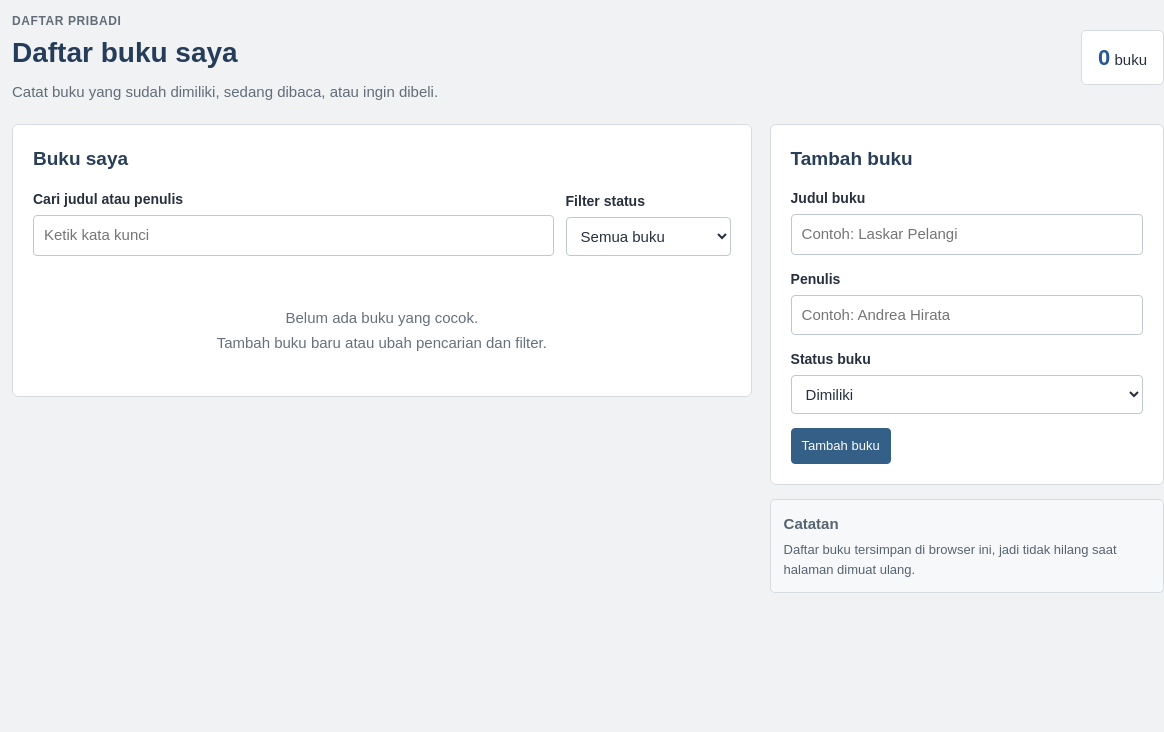
Test: HomePage › mengedit data buku
Type "Laskar Pelangi" into the field labelled "Judul buku" at (967, 234), box [791,214,1143,254]
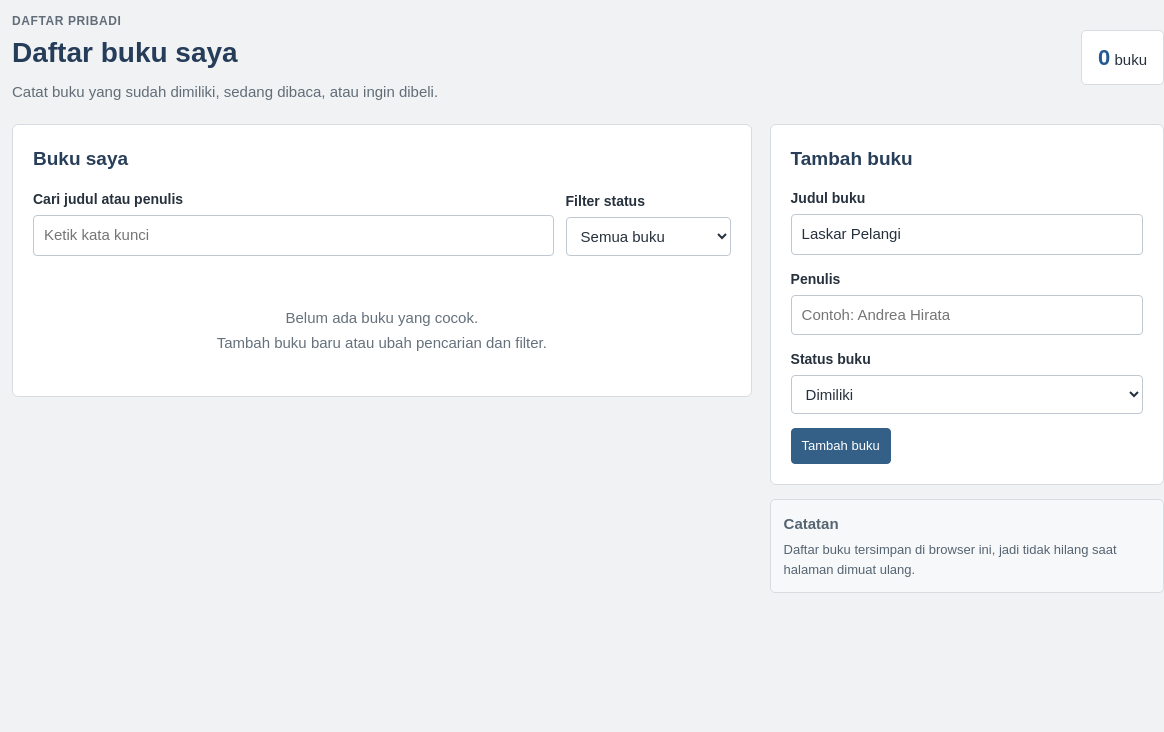
Type "Andrea Hirata" into the field labelled "Penulis" at (967, 315), box [791,294,1143,335]
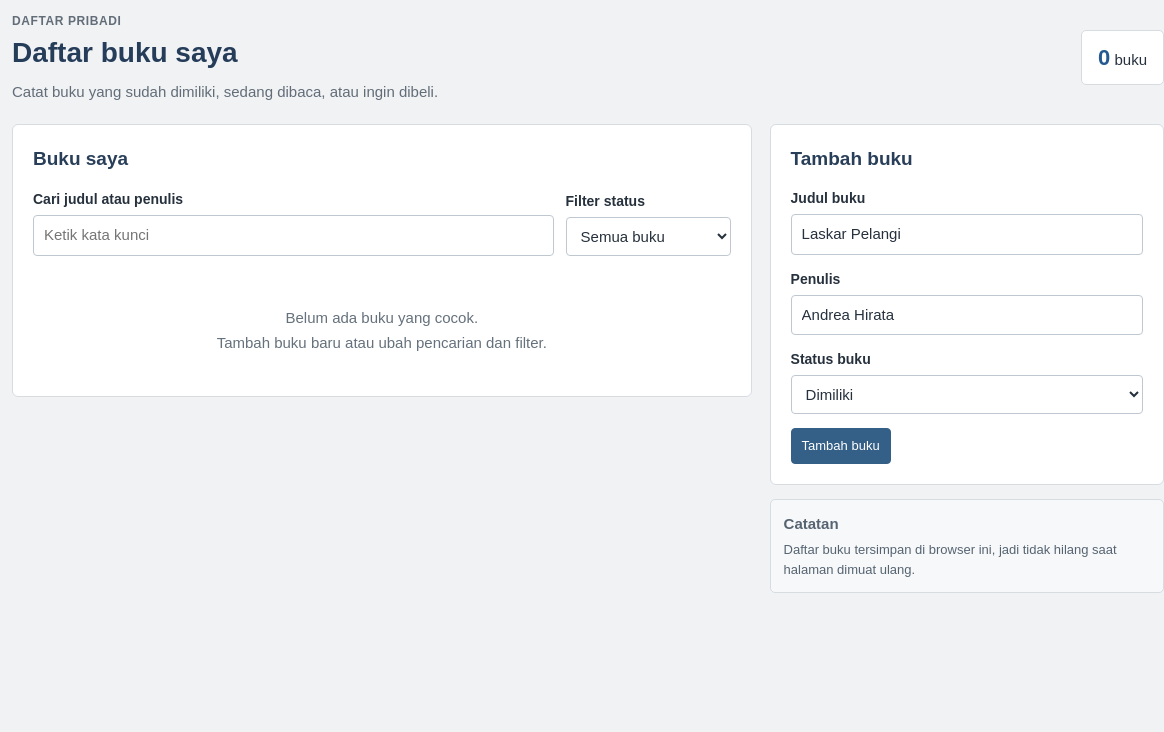
Select "Dimiliki" in the dropdown labelled "Status buku" at (967, 394), box [791,375,1143,414]
Click the button "Tambah buku" at (841, 446), box [791,428,891,464]
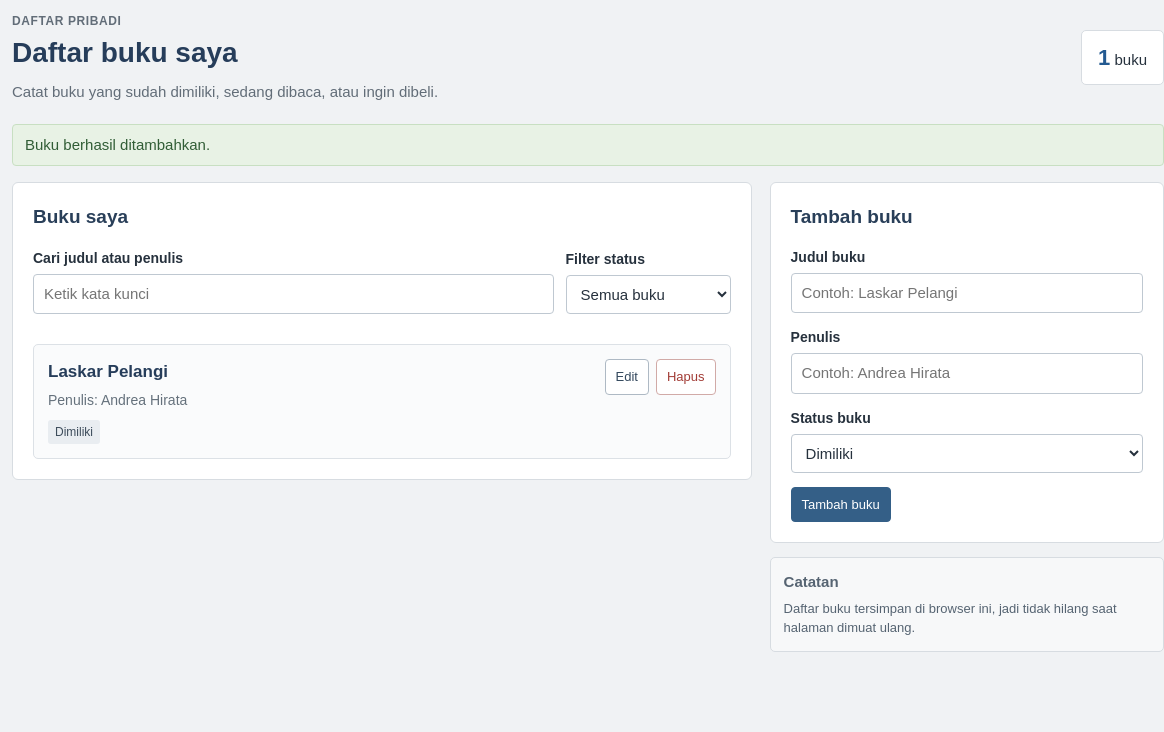
Click the button "Edit" at (627, 377), box [605,359,649,394]
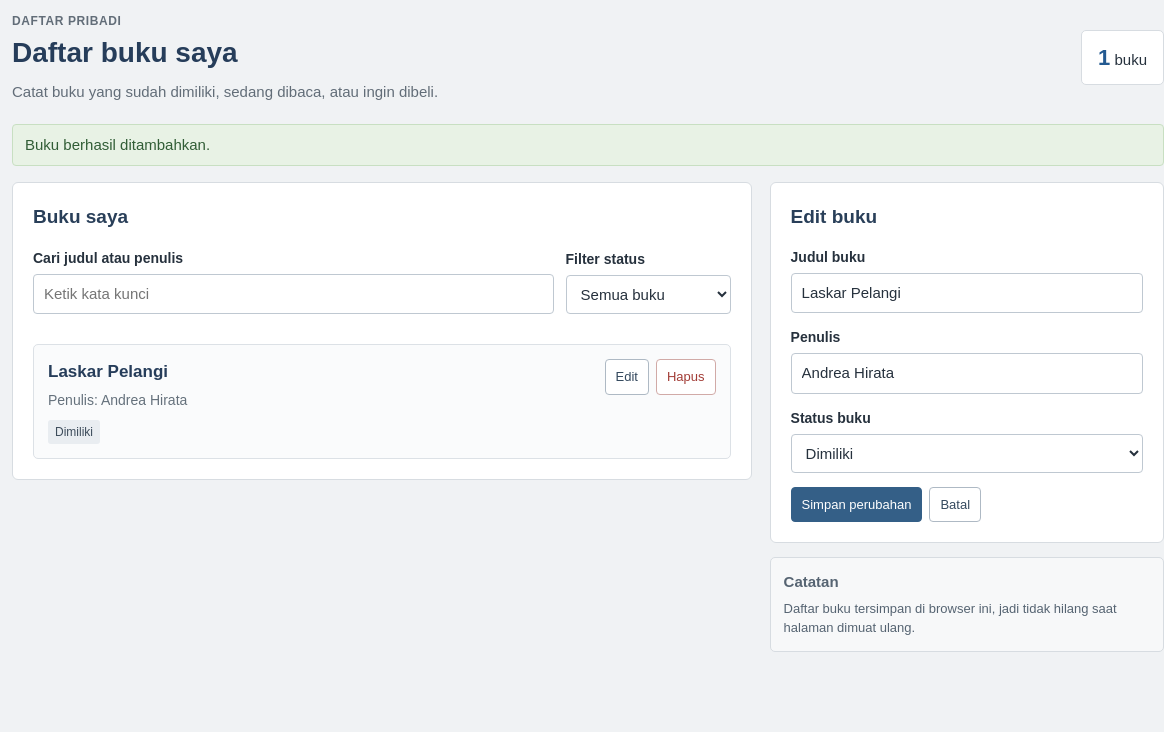
Replace the text in the field labelled "Judul buku" with "Laskar Pelangi Baru" at (967, 293), box [791,272,1143,313]
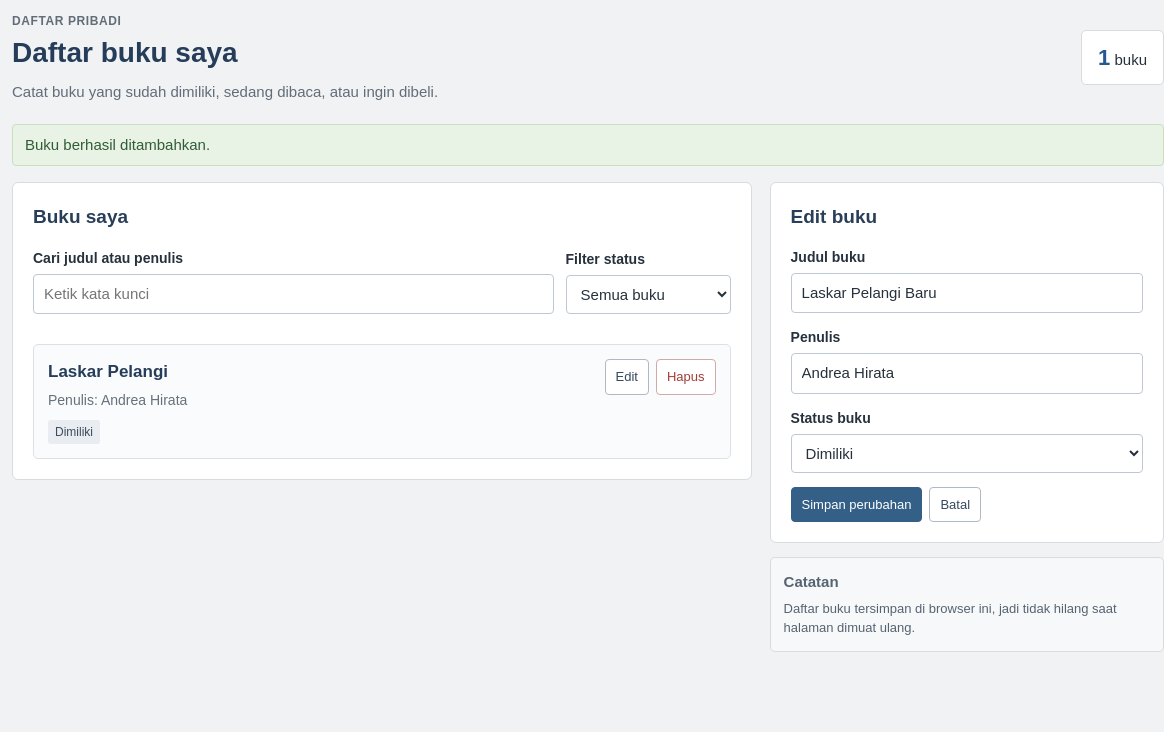
Click the button "Simpan perubahan" at (857, 504), box [791,486,922,522]
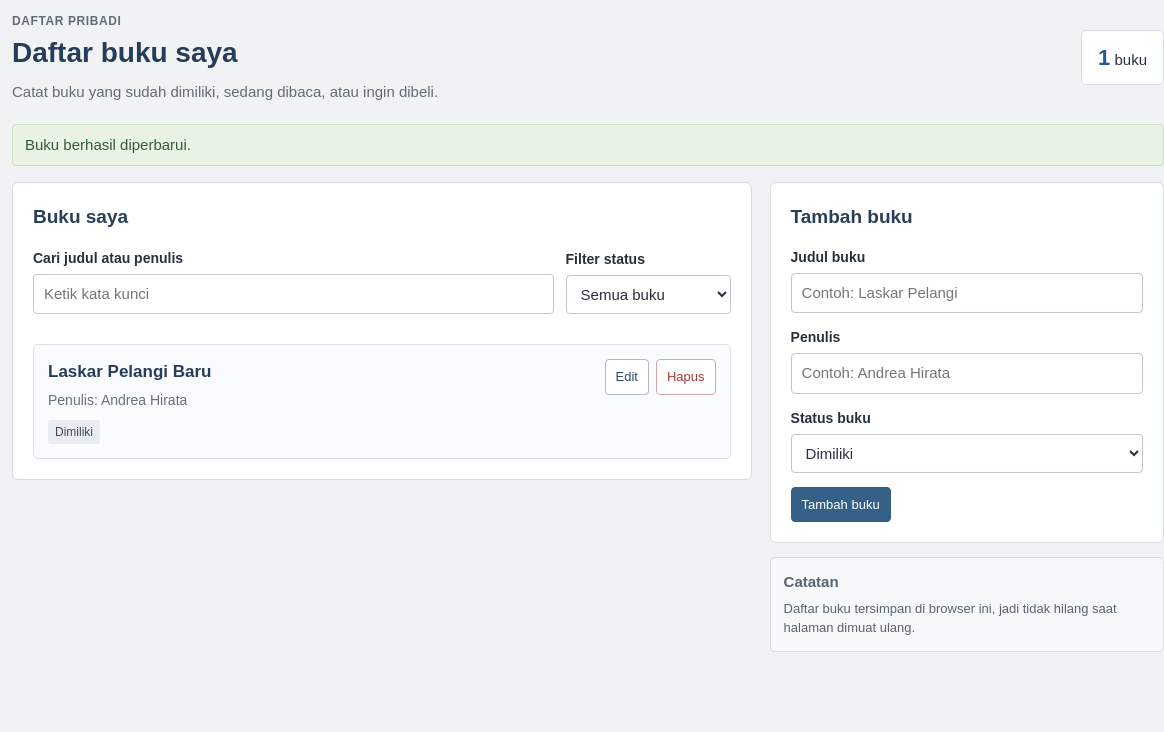
Result: the heading "Laskar Pelangi Baru" is shown at [48,359,212,384]
